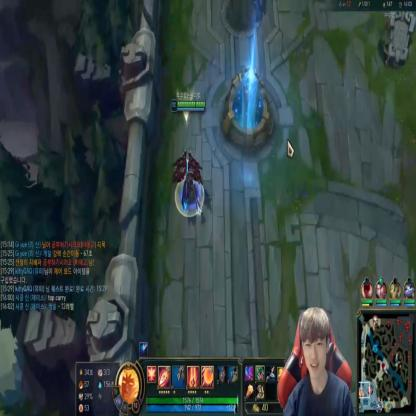streamer: (284, 307, 355, 416)
